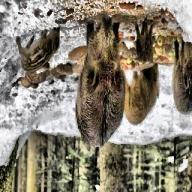boar: (75, 16, 127, 150), (123, 64, 159, 126), (172, 39, 191, 116)
